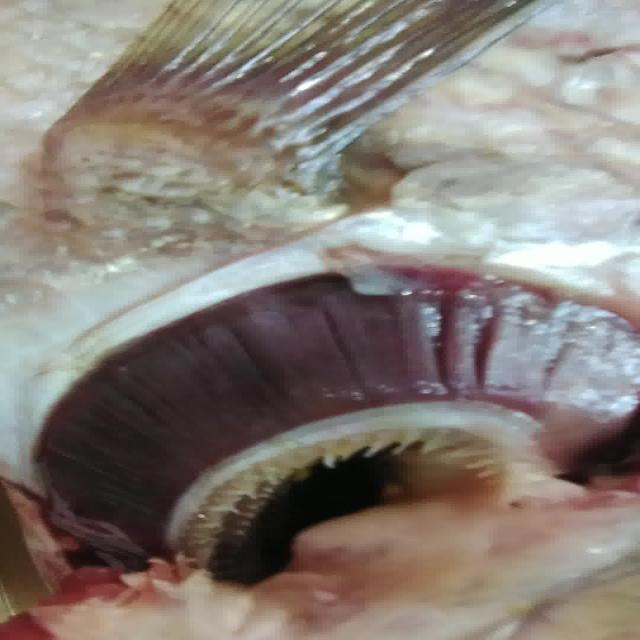Non-Fresh: (38, 249, 622, 599)
